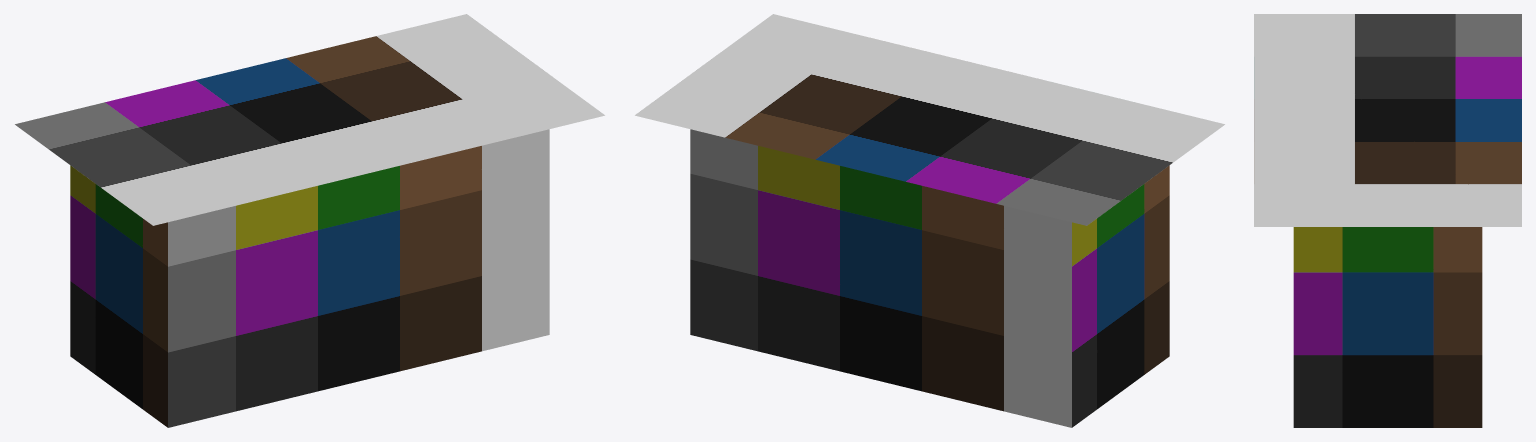
File: apartment_bathroom.fbx
3 renders of one model, left to right at view 1: azimuth 30°, elevation 25°; view 2: azimuth 150°, elevation 25°; view 3: azimuth 270°, elevation 25°, orthographic. The views are drawn at different scales.
Visible parts, largest first — view 1: wall_right_outside, roof, wall_back_outside; view 2: wall_left_outside, roof, wall_back_outside; view 3: roof, wall_front_outside.
Part boxes in pixels (x1,y1,x2,y2): wall_right_outside: [168, 129, 549, 427]; roof: [15, 14, 604, 225]; wall_back_outside: [70, 165, 167, 427]; wall_left_outside: [690, 129, 1071, 427]; roof: [635, 14, 1224, 225]; wall_back_outside: [1072, 165, 1169, 427]; roof: [1254, 14, 1521, 226]; wall_front_outside: [1293, 227, 1482, 427].
Size of the model in its own units: 640 by 305 by 340.
